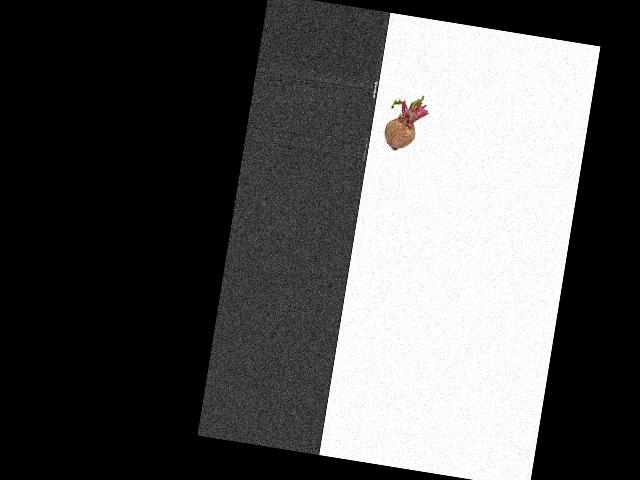beet: (382, 90, 431, 155)
